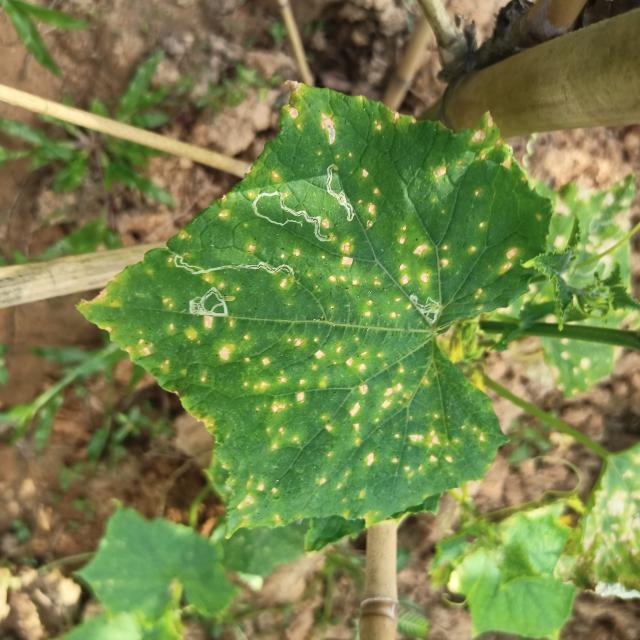disease_cucumber: (110, 312, 491, 510), (397, 215, 489, 299), (432, 113, 516, 196), (330, 238, 412, 319), (280, 102, 346, 150), (357, 165, 381, 231), (242, 242, 305, 261), (371, 110, 416, 134), (500, 240, 522, 276), (203, 273, 243, 291), (217, 190, 231, 220)
